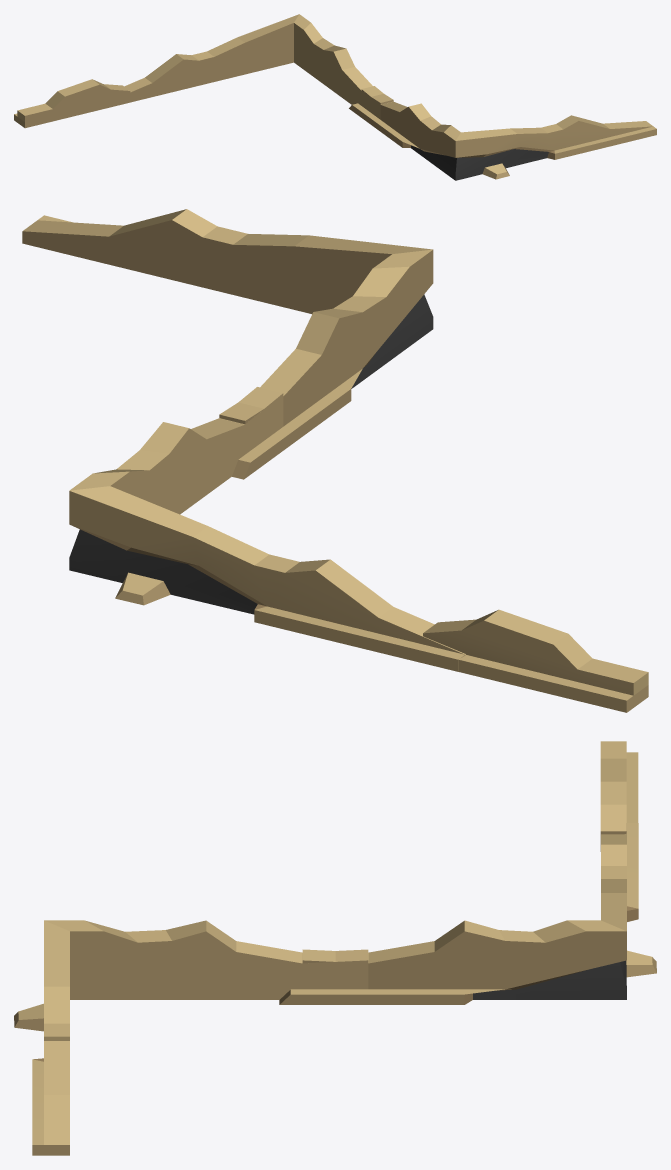
The picture shows the model from 3 angles, top to bottom: view 1: azimuth 30°, elevation 25°; view 2: azimuth 150°, elevation 25°; view 3: azimuth 270°, elevation 25°; orthographic projection. The views are drawn at different scales.
Visible parts, largest first — view 1: New Game Object; view 2: New Game Object; view 3: New Game Object.
Boxes of the visible parts, x1=… form: New Game Object: x1=14, y1=14, x2=656, y2=180; New Game Object: x1=22, y1=209, x2=648, y2=712; New Game Object: x1=14, y1=741, x2=656, y2=1155.
Bounding box in the file's own units: 30.5 × 2.48 × 21.1.
